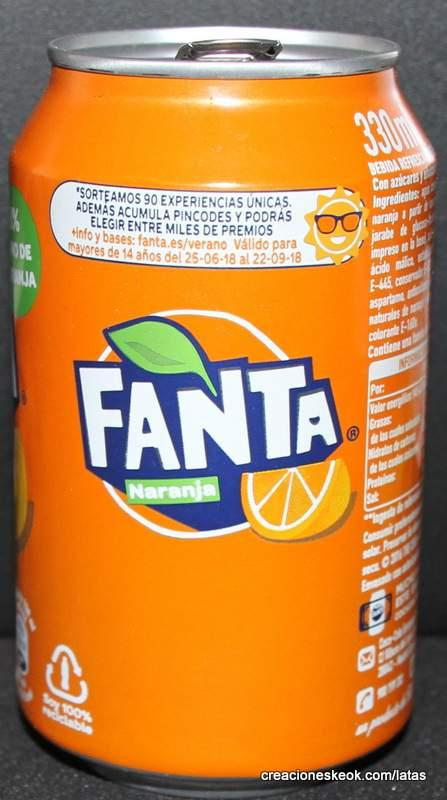metal: (10, 26, 436, 790)
